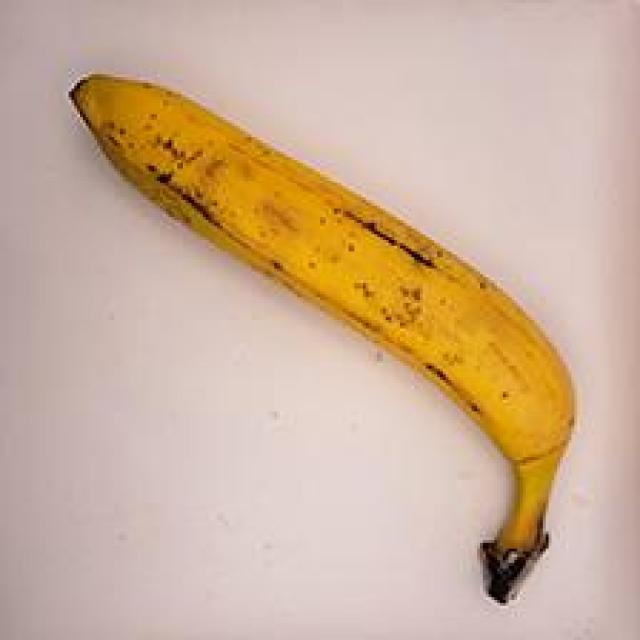Overripe: (59, 38, 605, 619)
